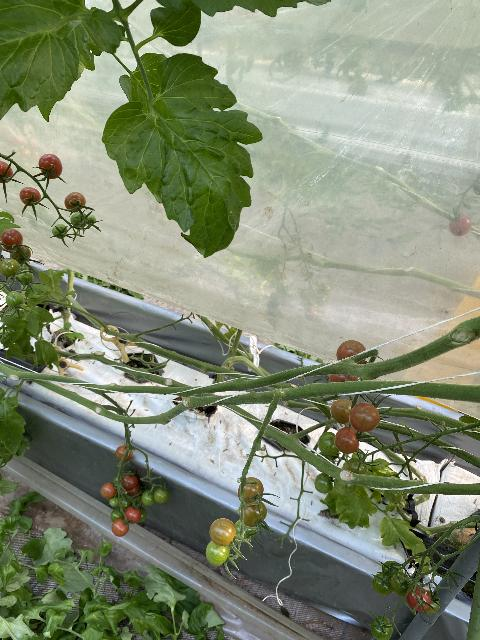l_fully_ripened: (38, 153, 63, 179), (407, 585, 431, 612), (1, 228, 24, 252), (0, 160, 13, 184), (125, 505, 141, 524), (122, 473, 138, 490), (126, 482, 140, 497)
l_green: (206, 540, 230, 566), (371, 615, 393, 640), (390, 572, 412, 596), (318, 432, 339, 456), (372, 572, 393, 596), (234, 519, 256, 541), (423, 590, 440, 615), (314, 472, 334, 493), (334, 479, 358, 496), (10, 245, 31, 264), (1, 258, 21, 277), (346, 458, 368, 475), (382, 561, 403, 578), (5, 291, 25, 308), (70, 211, 88, 229), (153, 487, 170, 503), (141, 489, 157, 506), (383, 490, 403, 503), (18, 270, 34, 285), (52, 224, 67, 239), (110, 509, 125, 522), (87, 214, 96, 225)
l_half_ripened: (348, 402, 381, 432), (209, 519, 236, 547), (238, 477, 263, 507), (336, 340, 367, 364), (334, 427, 360, 454), (244, 501, 267, 527), (331, 398, 352, 424), (65, 192, 86, 213), (20, 187, 41, 206), (111, 519, 129, 537), (115, 445, 133, 462), (100, 482, 116, 498)
